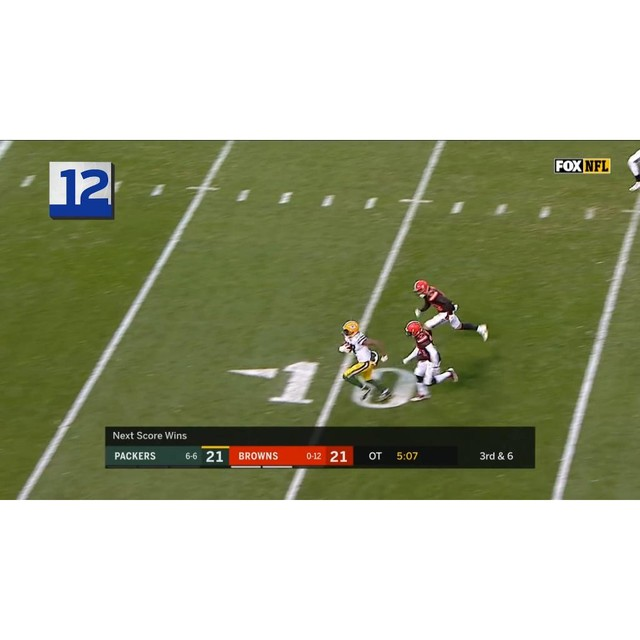american-football-player: (414, 280, 489, 342), (402, 321, 459, 402), (338, 321, 390, 403), (627, 148, 640, 194)
